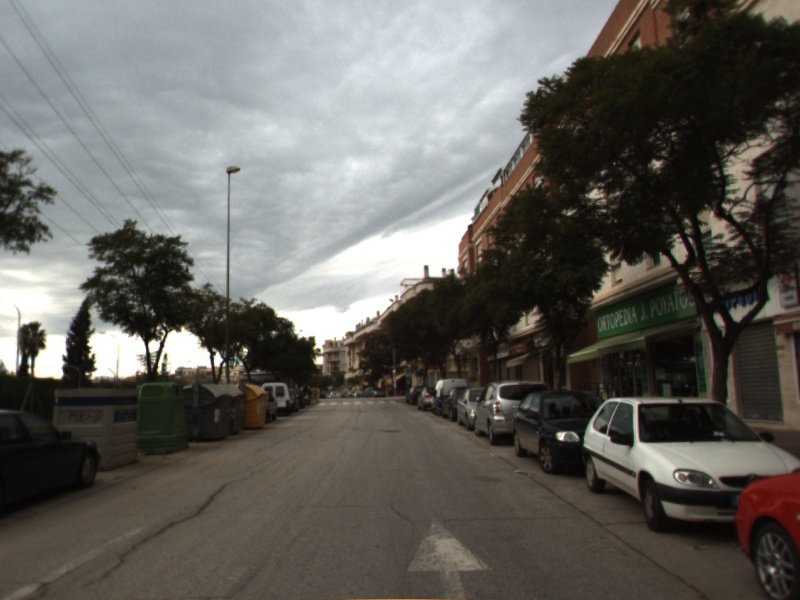STRAIGHT: (405, 515, 497, 600)
